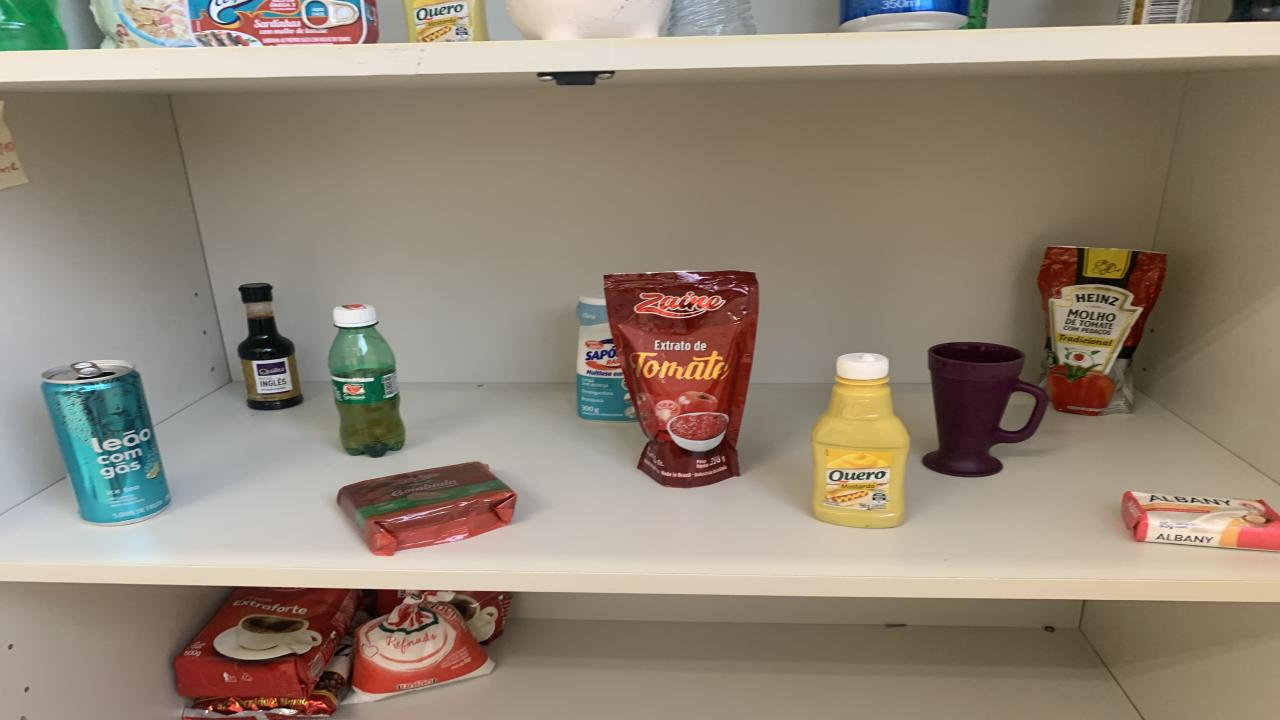Cleaner-Cleanup_Items: (575, 291, 635, 422)
English_Sauce-Pantry_Items: (238, 283, 302, 411), (1118, 0, 1192, 24)
Flakes-Snacks: (90, 0, 198, 49)
Guarana-Drinks: (328, 304, 405, 458)
Guava-Snacks: (338, 461, 518, 555)
Mustard-Pantry_Items: (810, 352, 910, 527), (402, 0, 488, 43)
Pig_Safe-Miscellaneous: (505, 0, 672, 39)
Pringles-Snacks: (960, 0, 990, 30)
Soap-Cleanup_Items: (1122, 491, 1280, 551)
Tea-Drinks: (42, 360, 170, 525)
Tomato_Sauce-Pantry_Items: (605, 270, 758, 488), (1038, 246, 1168, 416)
Tonic-Drinks: (840, 0, 970, 32)
Tuna_Can-Pantry_Items: (190, 0, 380, 47)
Water_Bottle-Drinks: (668, 0, 758, 36)
